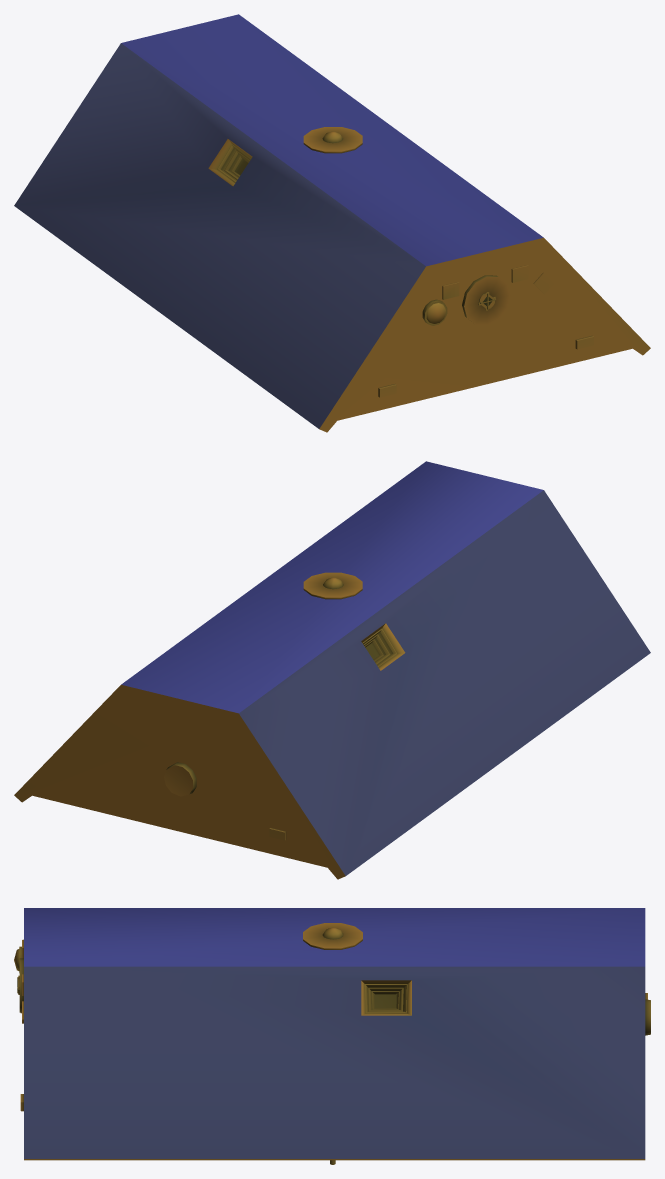
The picture shows the model from 3 angles, top to bottom: view 1: azimuth 30°, elevation 25°; view 2: azimuth 150°, elevation 25°; view 3: azimuth 270°, elevation 25°; orthographic projection.
Parts seen in each view (by area): view 1: Grace; view 2: Grace; view 3: Grace.
Boxes of the visible parts, x1,y1,x2,y2 form: Grace: (14,14,650,432); Grace: (14,461,650,879); Grace: (14,908,650,1164).
Bounding box in the file's own units: 0.3061 × 0.2035 × 0.5.
